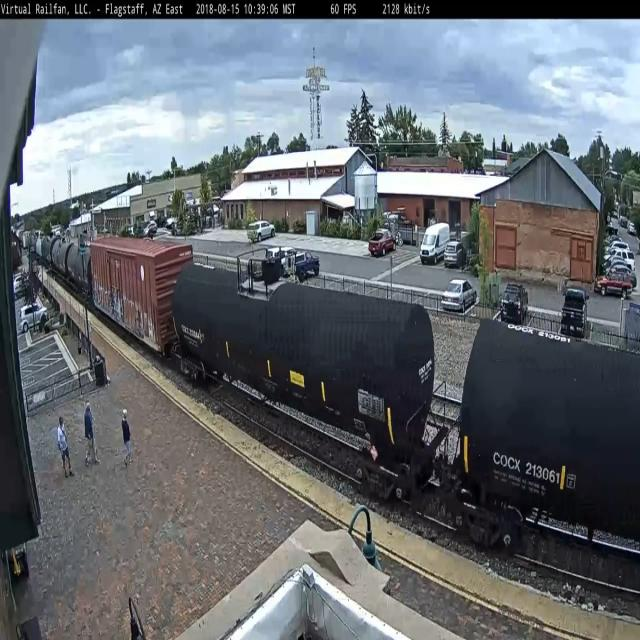boxcar: (88, 230, 197, 360)
tank: (163, 250, 447, 520), (445, 298, 640, 566)
